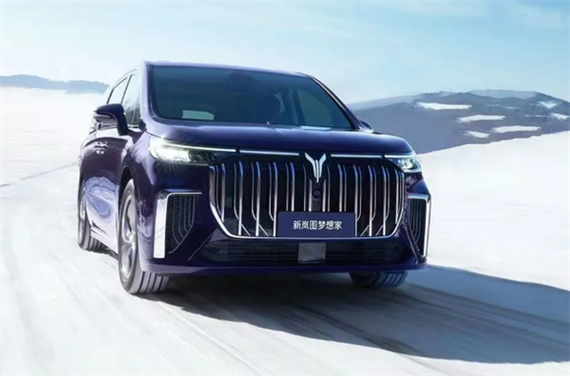汽车: (66, 57, 444, 318)
